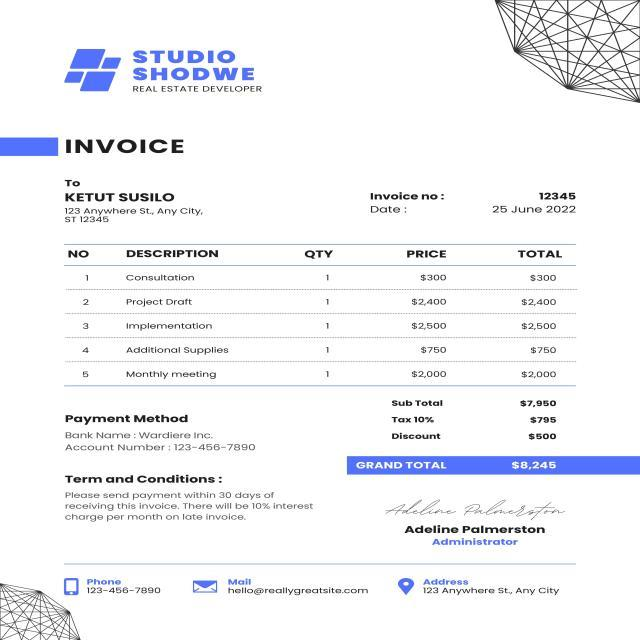ROI: (55, 241, 579, 387), (338, 393, 585, 484), (56, 469, 330, 530), (377, 492, 575, 549), (57, 407, 269, 460), (363, 179, 613, 222), (58, 171, 216, 229), (128, 38, 272, 101), (394, 566, 570, 608), (189, 570, 370, 605), (51, 23, 124, 100), (57, 576, 172, 608), (63, 134, 190, 160)
